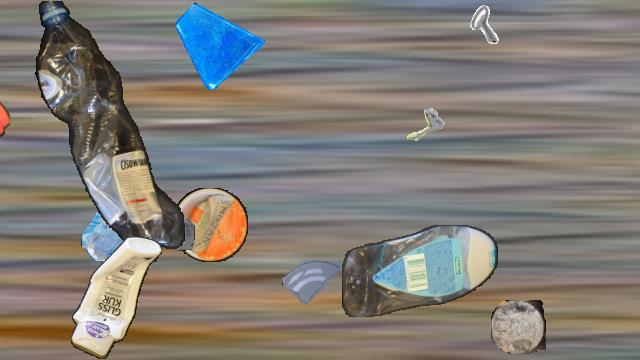glass: (176, 1, 264, 89), (81, 179, 163, 261), (129, 186, 195, 252), (282, 245, 344, 307)
metal: (438, 1, 500, 63), (389, 99, 449, 159)
plastic: (33, 1, 189, 261), (342, 225, 498, 317), (71, 237, 161, 359), (173, 188, 247, 262), (0, 96, 10, 264)
wood: (491, 300, 545, 354)
